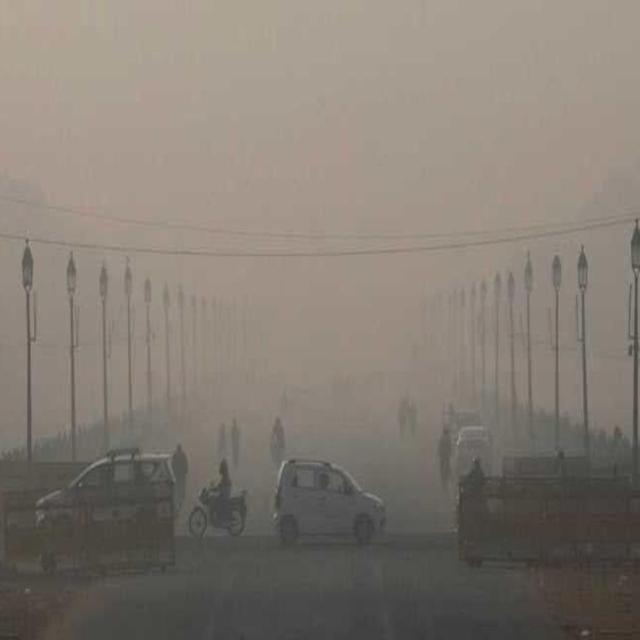Car: (32, 437, 175, 573), (264, 434, 388, 548)
Cycle: (188, 456, 256, 551)
